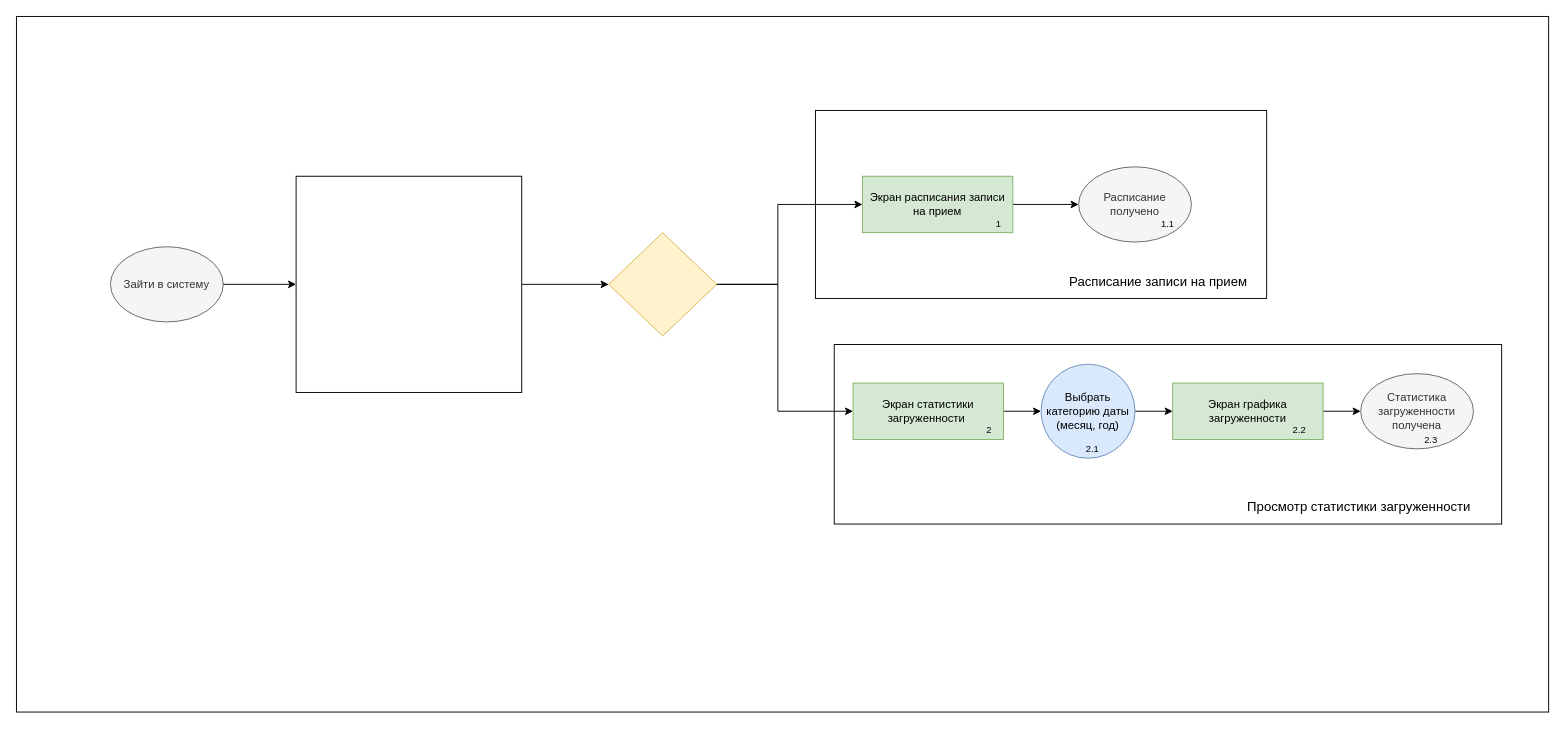
Some shapes in this 1565 by 729 pixel diagram are drawn without their labels. The centre of each missing label's shape, as x and y in pixels:
Авторизация (см. Пациента): point (408, 283)
Выбрать экран: point (662, 284)
